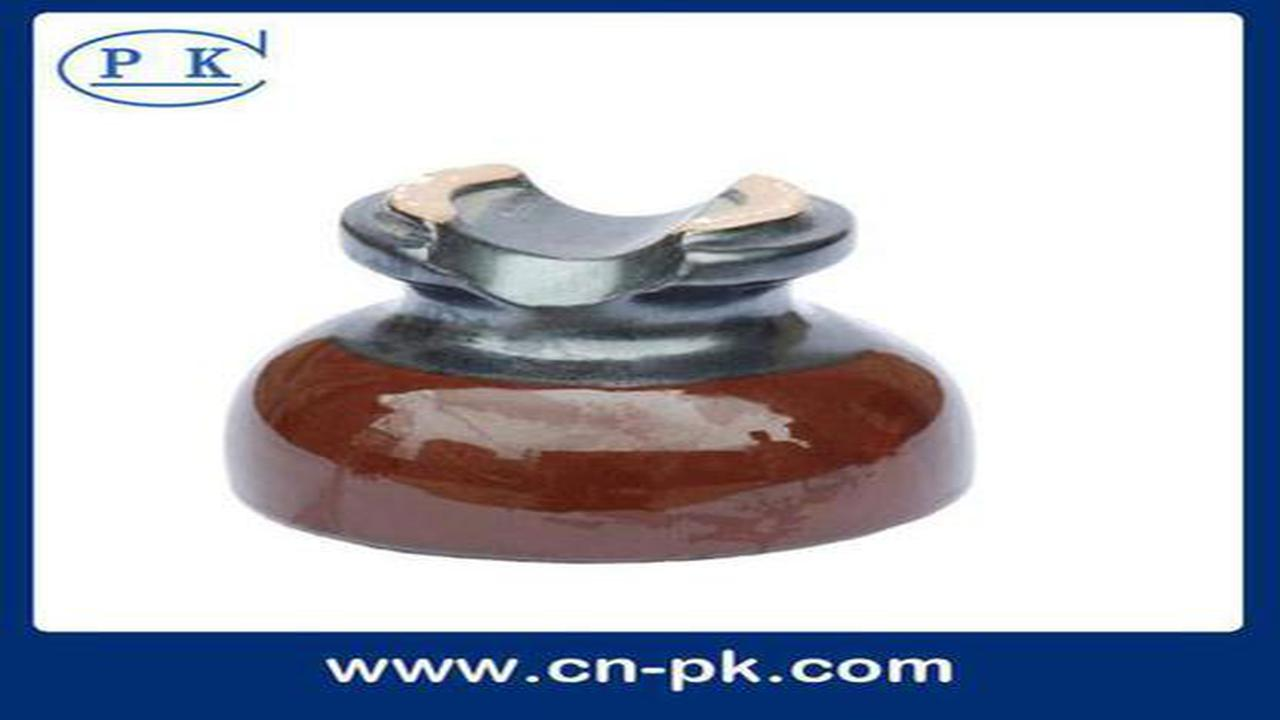insulator_pin: (219, 153, 982, 575)
